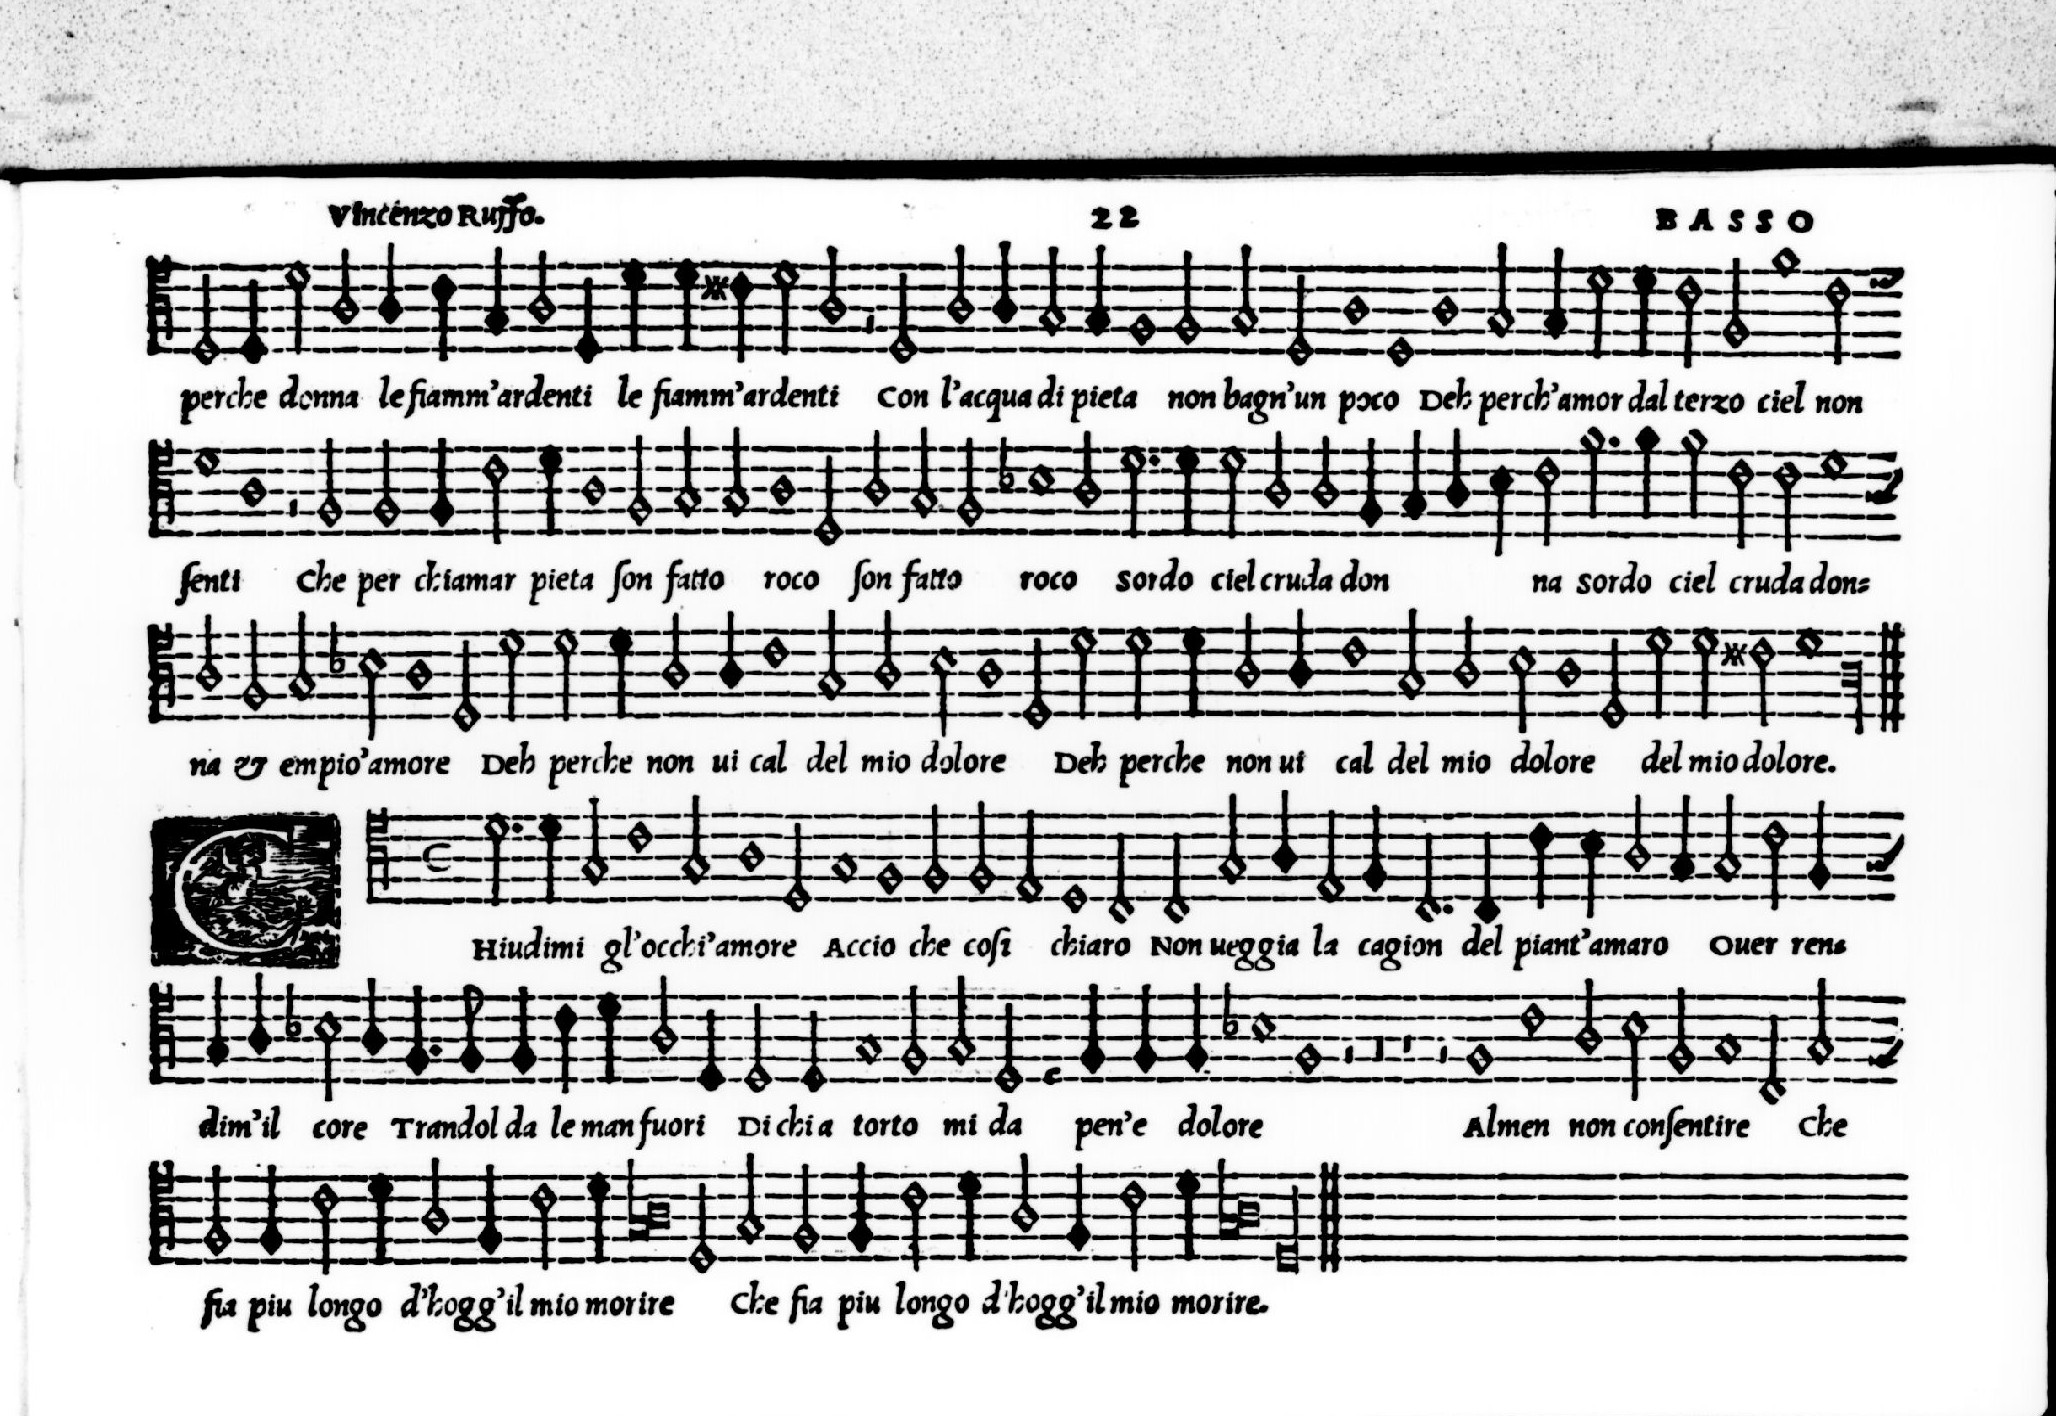breve rest: (1365, 975, 1390, 1091)
c clef_5: (137, 969, 181, 1080)
custos_9: (1864, 1000, 1906, 1085)
flat_6: (272, 974, 306, 1050), (1209, 977, 1242, 1049)
fusa rest: (1037, 977, 1065, 1099)
fusa_9: (452, 964, 492, 1092)
minim rest: (1334, 974, 1361, 1091), (1428, 978, 1455, 1089)
minim_11: (737, 989, 776, 1103)
minim_12: (1751, 997, 1792, 1114)
minim_6: (1612, 989, 1651, 1107), (308, 988, 345, 1105)
minim_7: (642, 955, 683, 1071), (1567, 963, 1606, 1072)
minim_8: (939, 960, 980, 1082), (1800, 963, 1837, 1080)
minim_9: (894, 966, 933, 1086), (1661, 975, 1698, 1086)
point: (987, 988, 1026, 1102), (411, 1030, 450, 1078)
semibreve rest: (1397, 975, 1419, 1089)
semibreve_5: (1519, 994, 1554, 1042)
semibreve_6: (1240, 994, 1286, 1057)
semibreve_8: (841, 1013, 891, 1078), (1704, 1016, 1748, 1080)
semibreve_9: (1280, 1024, 1330, 1089), (1448, 1030, 1500, 1086)
semiminim_11: (792, 996, 833, 1107), (687, 992, 730, 1099)
semiminim_4: (591, 972, 631, 1083)
semiminim_5: (541, 983, 583, 1088)
semiminim_7: (239, 971, 280, 1075), (355, 963, 389, 1071)
semiminim_8: (195, 975, 234, 1082)
semiminim_9: (1067, 975, 1112, 1085), (502, 971, 542, 1088), (1122, 978, 1164, 1086), (1175, 977, 1215, 1086), (394, 974, 431, 1086)
